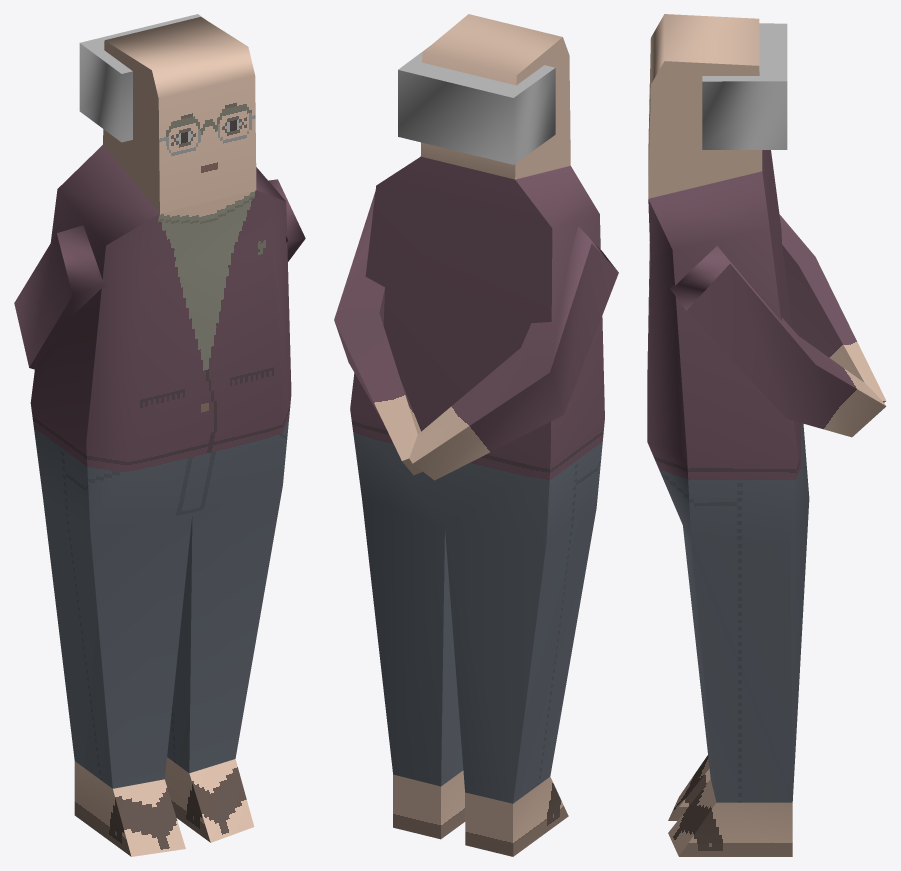
The model's file is 0579_Great_x2_Grandpa.glb.
The picture shows the model from 3 angles, left to right: view 1: azimuth 30°, elevation 25°; view 2: azimuth 150°, elevation 25°; view 3: azimuth 270°, elevation 25°; orthographic projection. The views are drawn at different scales.
Visible parts, largest first — view 1: part_0; view 2: part_0; view 3: part_0.
Boxes of the visible parts, <box> form: part_0: <box>14,14,305,856</box>; part_0: <box>334,14,618,856</box>; part_0: <box>647,14,886,856</box>.
Size of the model in its own units: 0.4661 by 1.51 by 0.4136.
1 material, 1 textured.
